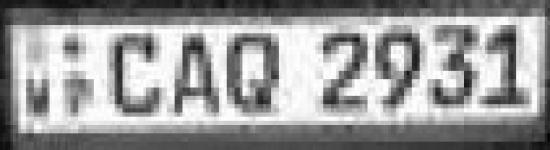1: (479, 19, 534, 113)
2: (318, 26, 371, 118)
3: (425, 21, 480, 111)
9: (375, 23, 424, 113)
A: (167, 28, 223, 122)
C: (106, 27, 166, 118)
P: (54, 68, 100, 121)
Q: (223, 28, 284, 120)
W: (22, 68, 54, 123)
